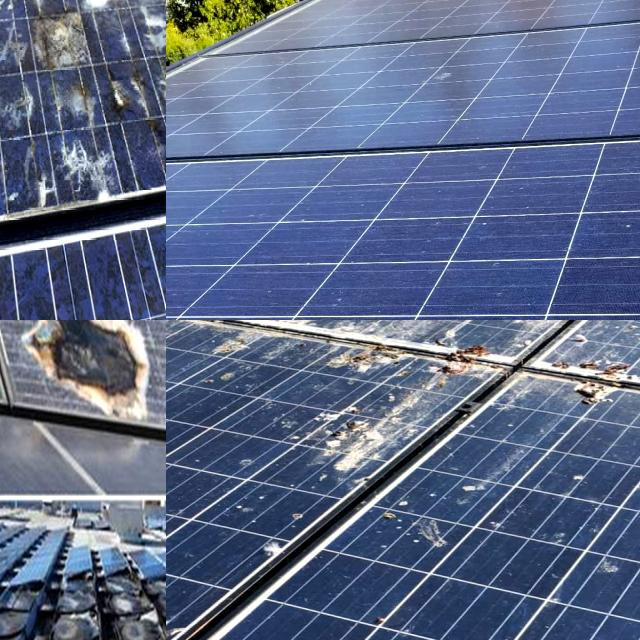bird: (448, 454, 608, 532), (303, 381, 421, 478), (226, 506, 327, 594), (538, 338, 634, 421), (212, 528, 329, 588), (166, 332, 263, 398), (332, 320, 428, 364), (166, 320, 252, 369), (216, 320, 310, 364), (166, 435, 213, 502), (452, 320, 534, 358)
dust: (190, 178, 371, 308), (412, 168, 558, 306), (580, 143, 640, 306)
hotspot: (17, 132, 117, 194), (26, 5, 92, 98), (130, 0, 166, 133), (0, 0, 166, 27), (0, 52, 25, 173)
shadow: (14, 320, 166, 428), (0, 353, 49, 640), (0, 582, 41, 640), (110, 603, 159, 640), (58, 612, 111, 640), (140, 575, 166, 594)
